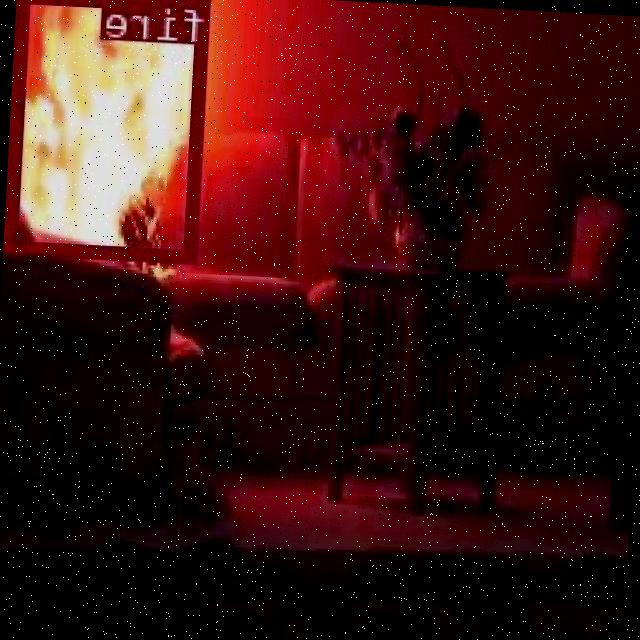fire: (9, 0, 213, 260)
